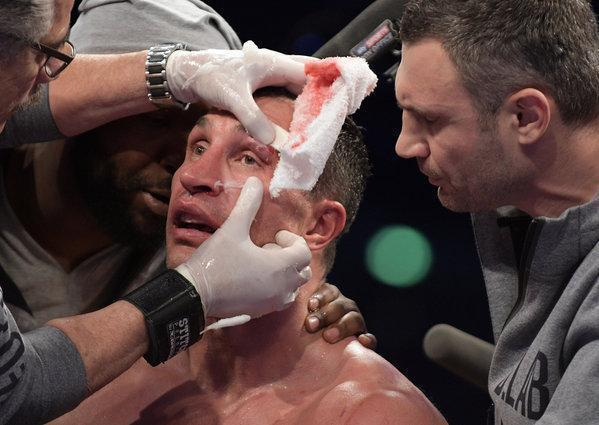Fire: (288, 57, 377, 150)
